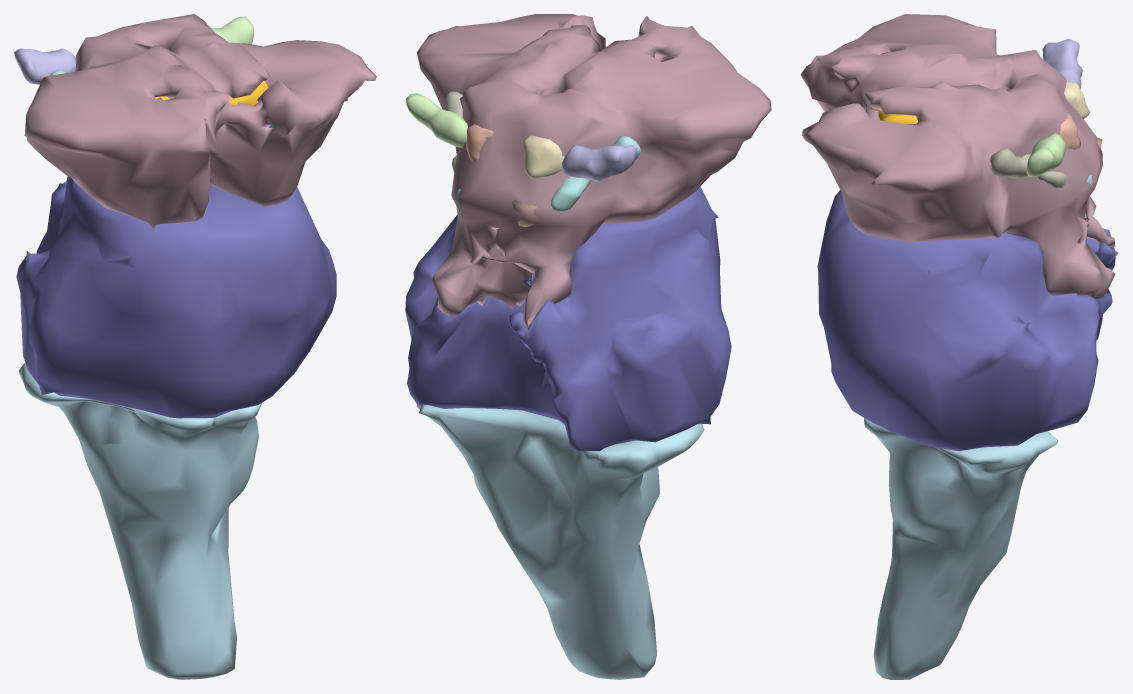
File: brainstem.lod2.glb
3 renders of one model, left to right at view 1: azimuth 30°, elevation 25°; view 2: azimuth 150°, elevation 25°; view 3: azimuth 270°, elevation 25°, orthographic. The views are drawn at different scales.
Visible parts, largest first — view 1: pons, part-of-midbrain, medulla-oblongata, brachia-of-superior-colliculus-r, brachia-of-superior-colliculus-l; view 2: part-of-midbrain, pons, medulla-oblongata, brachia-of-superior-colliculus-r, brachia-of-superior-colliculus-l, superior-colliculus-r, brachia-of-inferior-colliculus-r, superior-colliculus-l; view 3: part-of-midbrain, pons, medulla-oblongata, brachia-of-inferior-colliculus-l, brachia-of-superior-colliculus-r, brachia-of-superior-colliculus-l, superior-colliculus-r, superior-colliculus-l.
Part boxes in pixels (<box>): pons: <box>16,176,336,418</box>; part-of-midbrain: <box>24,14,376,229</box>; medulla-oblongata: <box>18,363,261,679</box>; brachia-of-superior-colliculus-r: <box>14,48,75,84</box>; brachia-of-superior-colliculus-l: <box>211,16,253,44</box>; part-of-midbrain: <box>416,14,771,331</box>; pons: <box>405,186,731,451</box>; medulla-oblongata: <box>416,405,704,679</box>; brachia-of-superior-colliculus-r: <box>561,145,636,182</box>; brachia-of-superior-colliculus-l: <box>406,93,467,147</box>; superior-colliculus-r: <box>523,135,564,178</box>; brachia-of-inferior-colliculus-r: <box>551,135,640,211</box>; superior-colliculus-l: <box>466,124,493,161</box>; part-of-midbrain: <box>800,14,1115,299</box>; pons: <box>817,190,1118,451</box>; medulla-oblongata: <box>864,418,1057,679</box>; brachia-of-inferior-colliculus-l: <box>990,148,1067,188</box>; brachia-of-superior-colliculus-r: <box>1042,38,1082,89</box>; brachia-of-superior-colliculus-l: <box>1026,133,1066,177</box>; superior-colliculus-r: <box>1064,81,1089,118</box>; superior-colliculus-l: <box>1060,113,1080,149</box>.
Bounding box in the file's own units: 0.0468 × 0.0841 × 0.0398.
